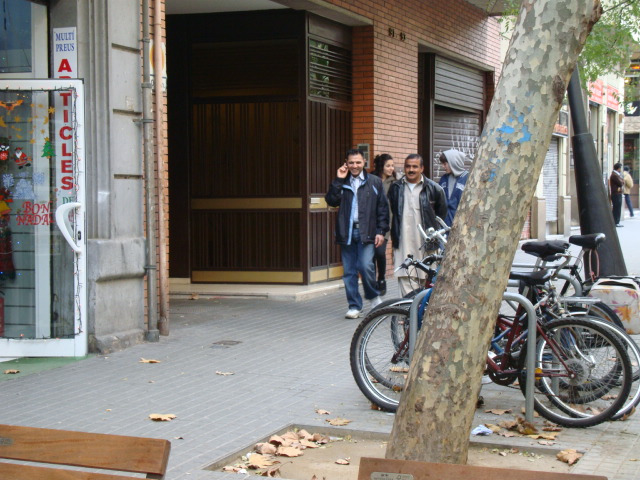deflection: (438, 151, 467, 191), (374, 154, 400, 191)
undeflect: (395, 158, 438, 207), (330, 151, 378, 194)
